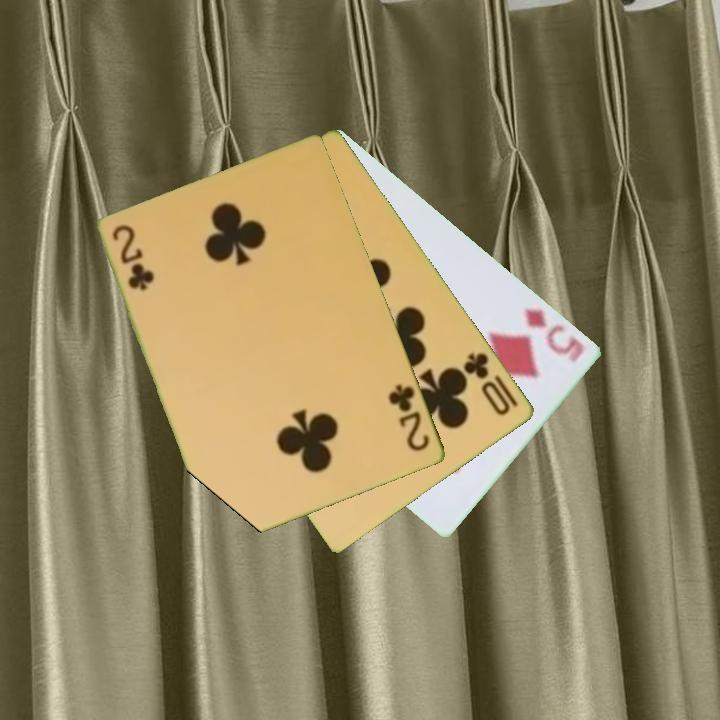10c: (460, 349, 514, 419)
2c: (385, 380, 433, 455), (109, 221, 154, 294)
5d: (521, 304, 588, 365)
